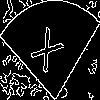X: (25, 25, 65, 83)
